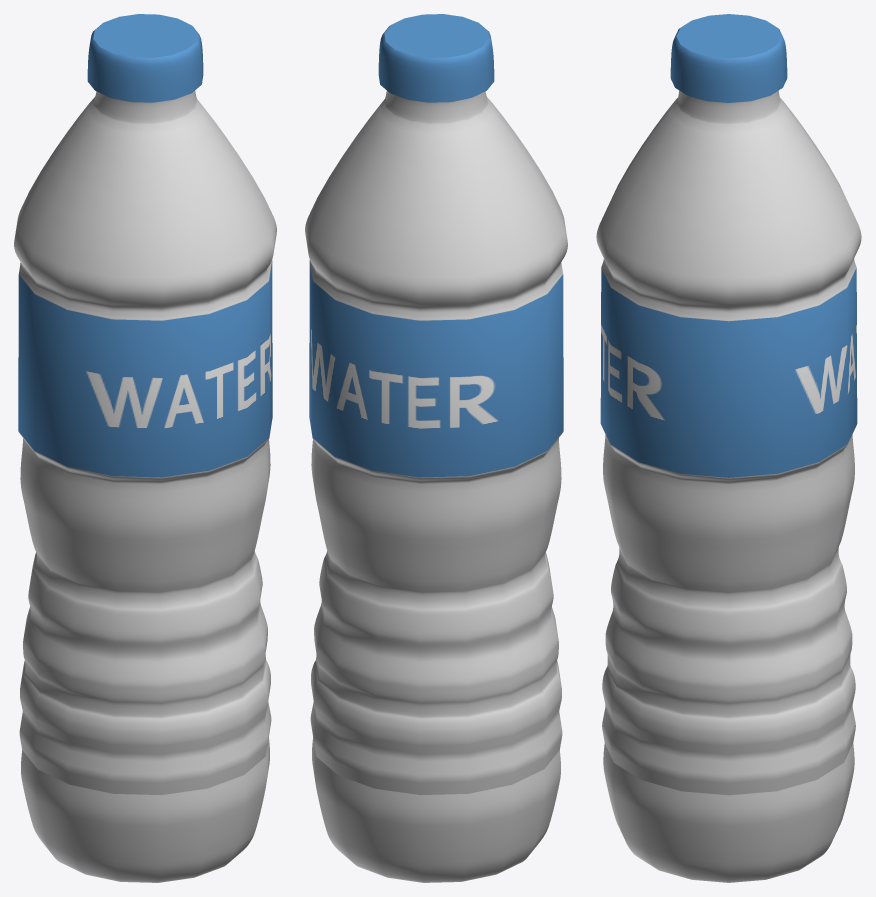
Rendered from water bottle.FBX.
3 renders of one model, left to right at view 1: azimuth 30°, elevation 25°; view 2: azimuth 150°, elevation 25°; view 3: azimuth 270°, elevation 25°, orthographic.
Parts seen in each view (by area): view 1: Line001; view 2: Line001; view 3: Line001.
Boxes of the visible parts, x1=… form: Line001: x1=14, y1=14, x2=276, y2=882; Line001: x1=305, y1=14, x2=567, y2=882; Line001: x1=596, y1=14, x2=861, y2=882.
Size of the model in its own units: 10.93 by 36.82 by 10.93.
3 materials, 3 textured.
